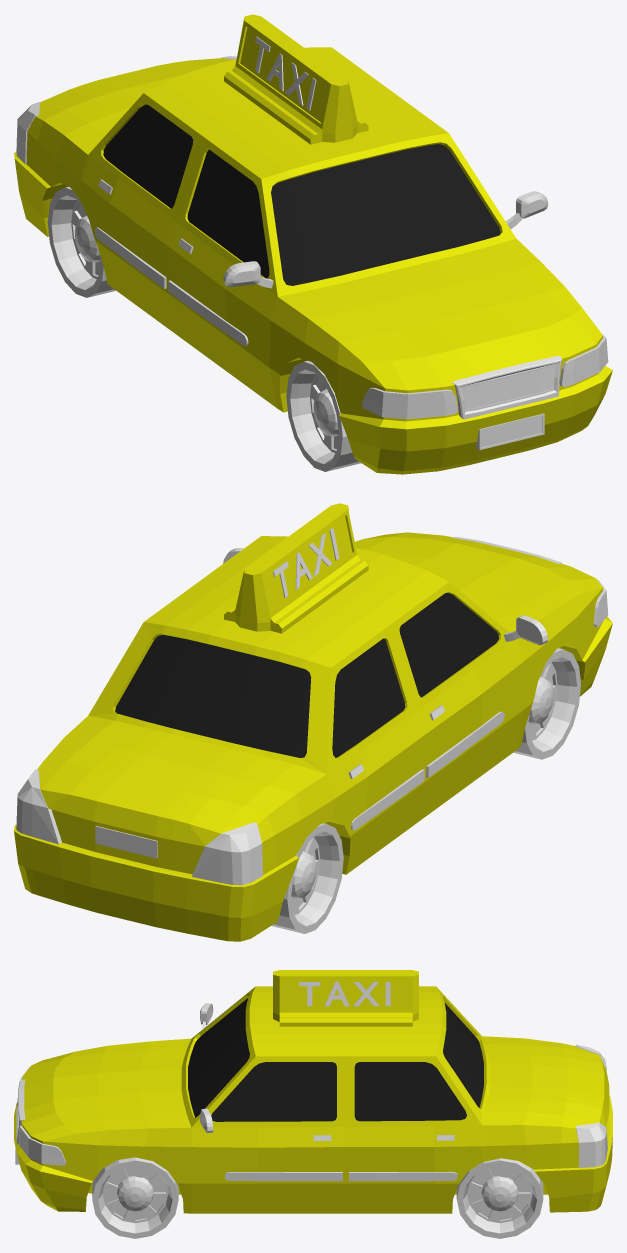
File: Taxi.fbx
3 views of the same model, one above another, from view 1: azimuth 30°, elevation 25°; view 2: azimuth 150°, elevation 25°; view 3: azimuth 270°, elevation 25° (orthographic). The views are drawn at different scales.
Visible parts, largest first — view 1: polySurface5, polySurface26, polySurface47, polySurface45, polySurface7, polySurface29, polySurface25, polySurface6, polySurface31, polySurface30, polySurface36, polySurface34 (+1 smaller); view 2: polySurface5, polySurface26, polySurface45, polySurface47, polySurface34, polySurface23, polySurface24, polySurface31, polySurface30, polySurface36; view 3: polySurface5, polySurface26, polySurface1, polySurface46, polySurface23, polySurface20, polySurface19, polySurface6, polySurface7.
Part boxes in pixels (left/top/right/bottom): polySurface5: left=14, top=47, right=612, bottom=474; polySurface26: left=224, top=14, right=368, bottom=144; polySurface47: left=286, top=360, right=361, bottom=471; polySurface45: left=47, top=186, right=115, bottom=297; polySurface7: left=452, top=356, right=561, bottom=419; polySurface29: left=362, top=387, right=458, bottom=419; polySurface25: left=475, top=413, right=544, bottom=450; polySurface6: left=559, top=334, right=608, bottom=387; polySurface31: left=168, top=280, right=248, bottom=346; polySurface30: left=94, top=227, right=166, bottom=288; polySurface36: left=223, top=261, right=260, bottom=287; polySurface34: left=16, top=102, right=39, bottom=164; polySurface5: left=14, top=532, right=612, bottom=941; polySurface26: left=224, top=503, right=368, bottom=633; polySurface45: left=271, top=823, right=343, bottom=933; polySurface47: left=513, top=648, right=580, bottom=759; polySurface34: left=191, top=822, right=262, bottom=885; polySurface23: left=16, top=769, right=61, bottom=844; polySurface24: left=95, top=826, right=157, bottom=858; polySurface31: left=426, top=711, right=504, bottom=777; polySurface30: left=351, top=769, right=424, bottom=830; polySurface36: left=516, top=615, right=548, bottom=645; polySurface5: left=14, top=986, right=612, bottom=1213; polySurface26: left=273, top=970, right=418, bottom=1026; polySurface1: left=92, top=1157, right=178, bottom=1238; polySurface46: left=456, top=1158, right=543, bottom=1238; polySurface23: left=575, top=1122, right=607, bottom=1167; polySurface20: left=224, top=1172, right=342, bottom=1181; polySurface19: left=349, top=1171, right=457, bottom=1181; polySurface6: left=18, top=1125, right=65, bottom=1165; polySurface7: left=16, top=1079, right=25, bottom=1144.
Size of the model in its own units: 258 by 220 by 542.
